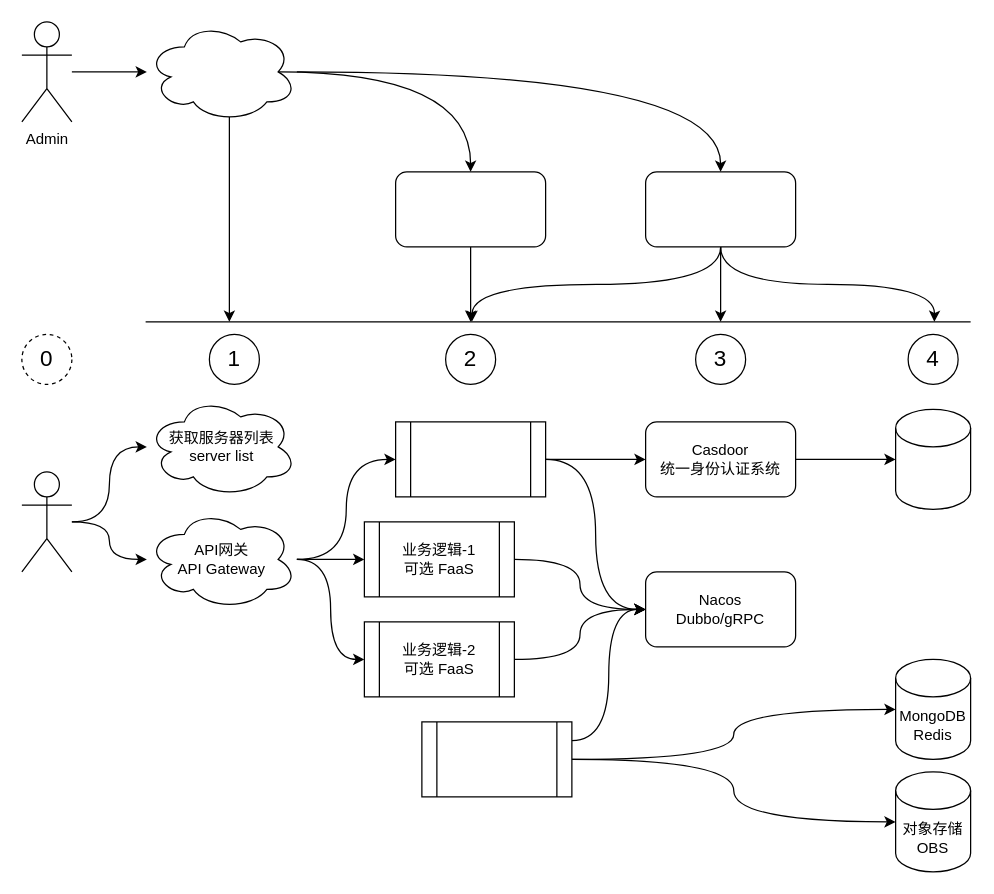
This 994x894 diagram has some shape labels left out. Each missing label, with the centre of its shape:
"Jenkins 自动化打包平台" goes at pixel 470 209.
"MySQL" goes at pixel 932 458.
"User" goes at pixel 46 521.
"云计算/云存储 PaaS、FaaS" goes at pixel 720 209.
"数据访问层 DAO" goes at pixel 496 759.
"用户管理 登陆注册、鉴权" goes at pixel 470 459.
"管理后台 DevOps" goes at pixel 221 71.
